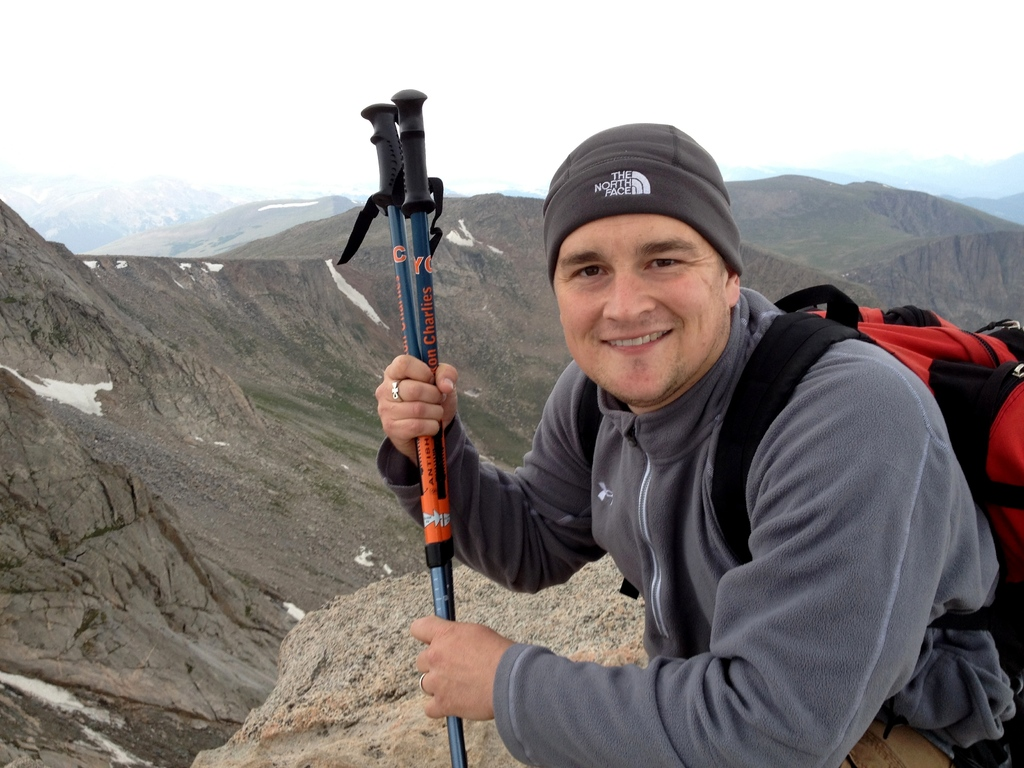Person: (375, 121, 1023, 767)
